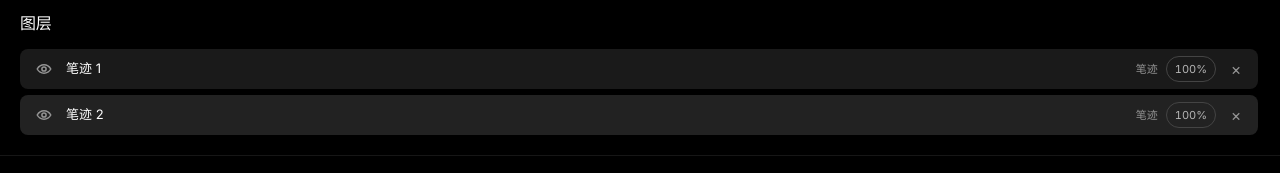
图层行内重命名 › 双击名称进入编辑，Esc 取消：不产生 PATCH，名称不变
Double-click the text "笔迹 1" at (84, 68), box [66, 60, 101, 76]
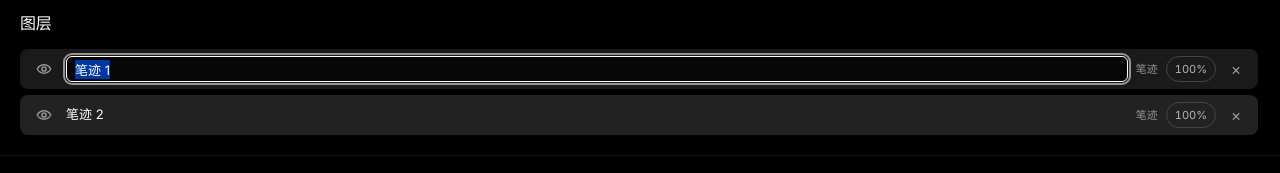
Expected: the field named "重命名 笔迹 1" holds "笔迹 1"
Replace the text in the field named "重命名 笔迹 1" with "背景" at (597, 69), box [66, 56, 1128, 82]
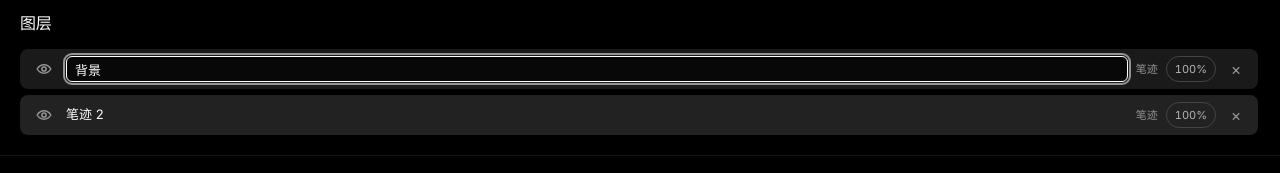
Press Escape in the field named "重命名 笔迹 1", box [66, 56, 1128, 82]
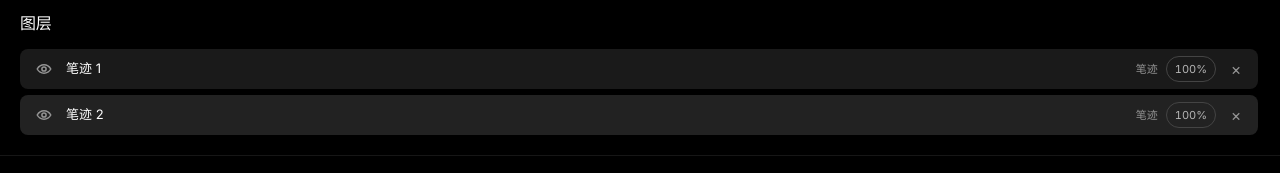
Expected: the field is gone
Expected: the text "笔迹 1" is shown, [66, 60, 101, 76]
